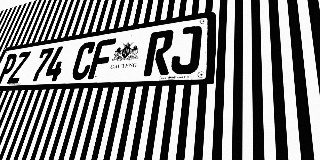4: (43, 45, 69, 82)
7: (28, 47, 54, 83)
C: (69, 41, 97, 80)
F: (87, 38, 116, 79)
J: (169, 25, 202, 75)
P: (0, 53, 19, 84)
R: (143, 29, 175, 76)
Z: (7, 51, 31, 84)
